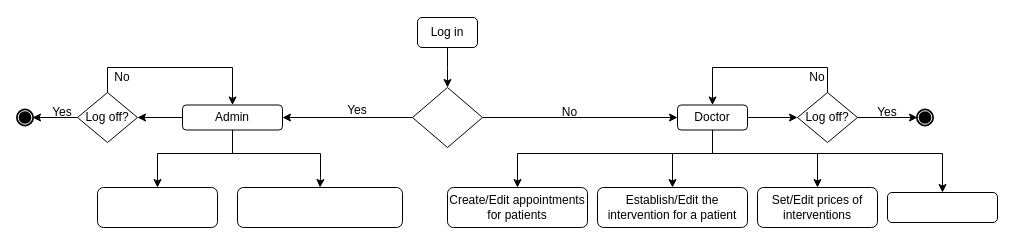
Image size: 1015x245. Some labels were removed from this diagram. The box of each missing label's shape, as (x1, y1, x2, y2) in pixels:
Create/Delete/Edit interventions: (96, 186, 218, 228)
Create/View/Edit accounts for doctors and patients: (236, 186, 402, 228)
Is admin?: (412, 86, 482, 148)
View schedule: (886, 192, 998, 222)
